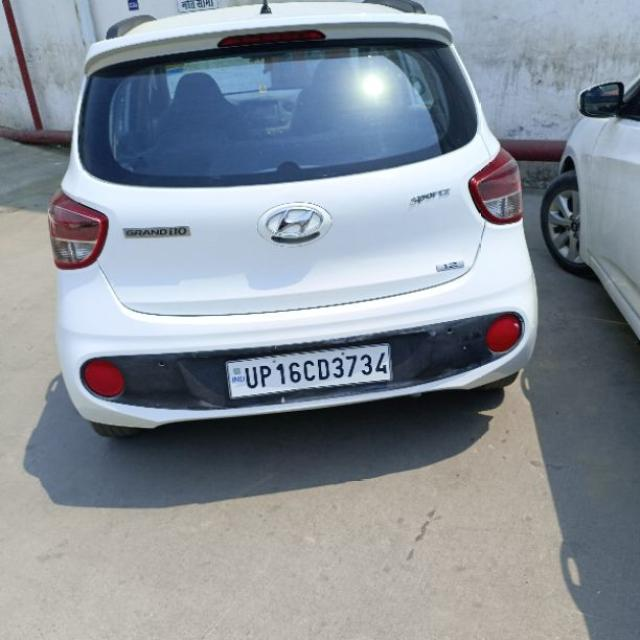license_plate: (224, 341, 393, 399)
